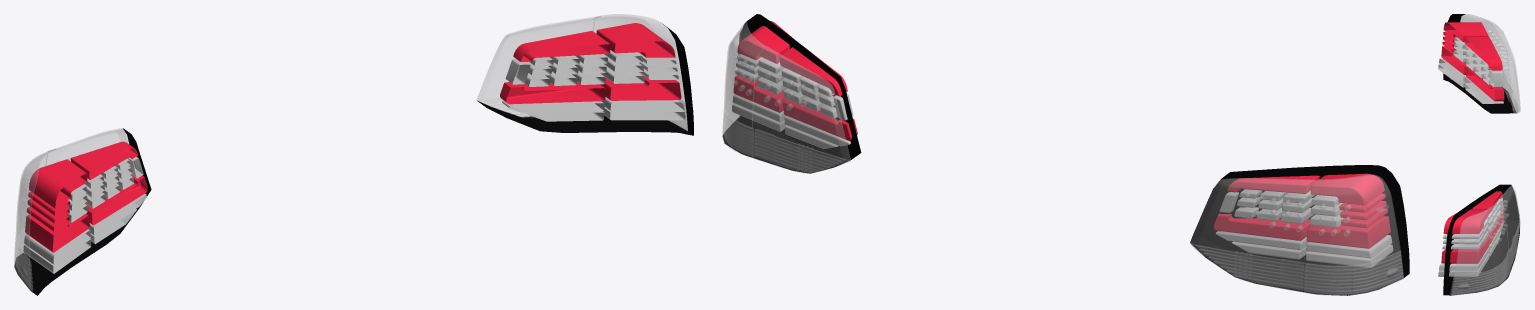
File: стописвітлі.gltf
3 renders of one model, left to right at view 1: azimuth 30°, elevation 25°; view 2: azimuth 150°, elevation 25°; view 3: azimuth 270°, elevation 25°, orthographic. The views are drawn at different scales.
Parts seen in each view (by area): view 1: LCVXR.Body_fullsize_body (×2), LCVXR.Body_fullsize_body.4, LC200_CarGlass_RedBrake_1.1, LC200_CarGlass_Clear_1.1; view 2: LCVXR.Body_fullsize_body (×2), LC200_CarGlass_RedBrake_1.1, LCVXR.Body_fullsize_body.4, LC200_CarGlass_Clear_1.1; view 3: LCVXR.Body_fullsize_body (×2), LC200_CarGlass_RedBrake_1.1, LCVXR.Body_fullsize_body.4, LC200_CarGlass_Clear_1.1.
Part boxes in pixels (<box>): LCVXR.Body_fullsize_body (×2): <box>14,23,693,295</box>; LCVXR.Body_fullsize_body.4: <box>23,50,685,273</box>; LC200_CarGlass_RedBrake_1.1: <box>16,14,684,259</box>; LC200_CarGlass_Clear_1.1: <box>14,96,687,291</box>; LCVXR.Body_fullsize_body (×2): <box>722,14,1409,295</box>; LC200_CarGlass_RedBrake_1.1: <box>724,22,1400,266</box>; LCVXR.Body_fullsize_body.4: <box>732,54,1393,267</box>; LC200_CarGlass_Clear_1.1: <box>722,94,1403,295</box>; LCVXR.Body_fullsize_body (×2): <box>1441,14,1519,295</box>; LC200_CarGlass_RedBrake_1.1: <box>1455,14,1520,275</box>; LCVXR.Body_fullsize_body.4: <box>1438,37,1503,276</box>; LC200_CarGlass_Clear_1.1: <box>1450,69,1520,295</box>.
Size of the model in its own units: 2.18 by 0.3444 by 0.3512.
